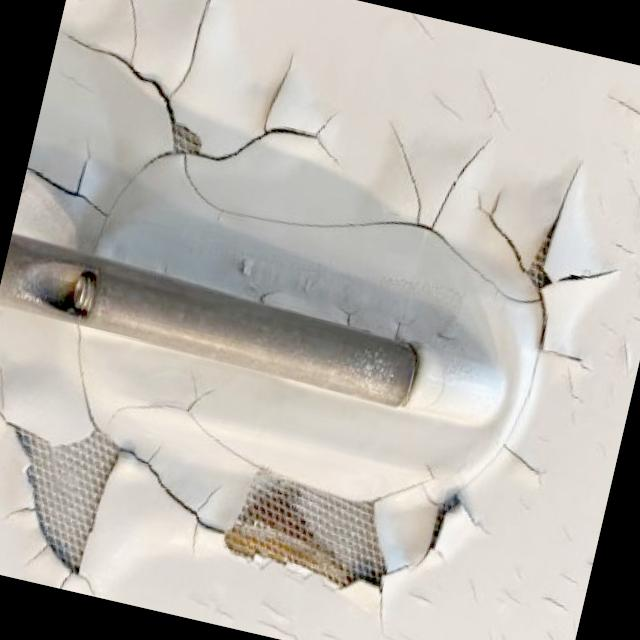crack: (178, 117, 542, 309), (189, 45, 342, 174), (60, 0, 213, 129), (105, 369, 266, 475), (109, 437, 232, 564), (0, 456, 101, 598), (522, 155, 620, 292), (456, 348, 541, 493), (90, 144, 180, 259), (333, 558, 415, 640), (412, 489, 491, 574), (25, 136, 105, 216), (532, 287, 594, 378), (474, 187, 525, 276), (367, 456, 443, 510), (497, 439, 553, 495), (72, 322, 99, 431), (0, 350, 19, 438)
